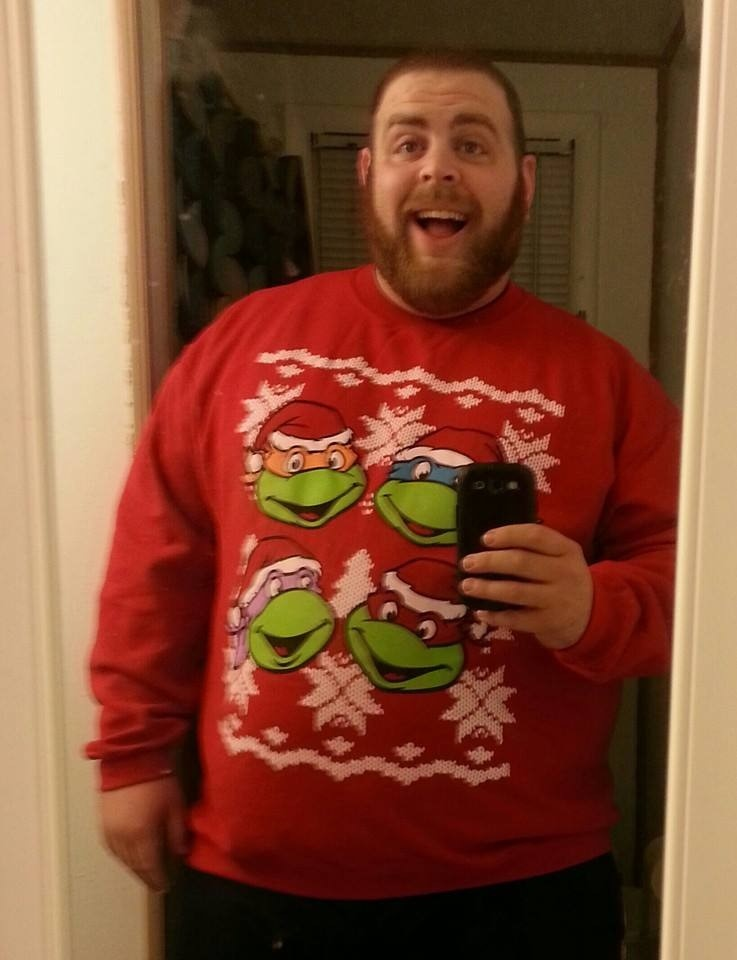face_no_mask: (356, 54, 544, 315)
